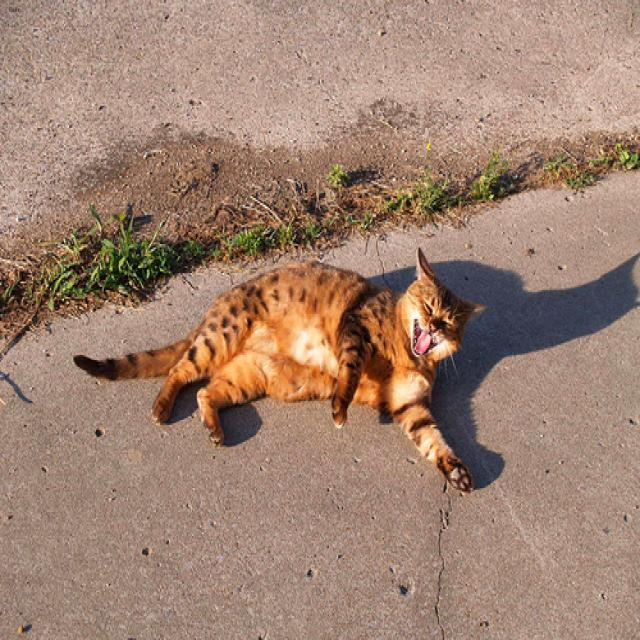Bengal: (390, 258, 479, 377)
